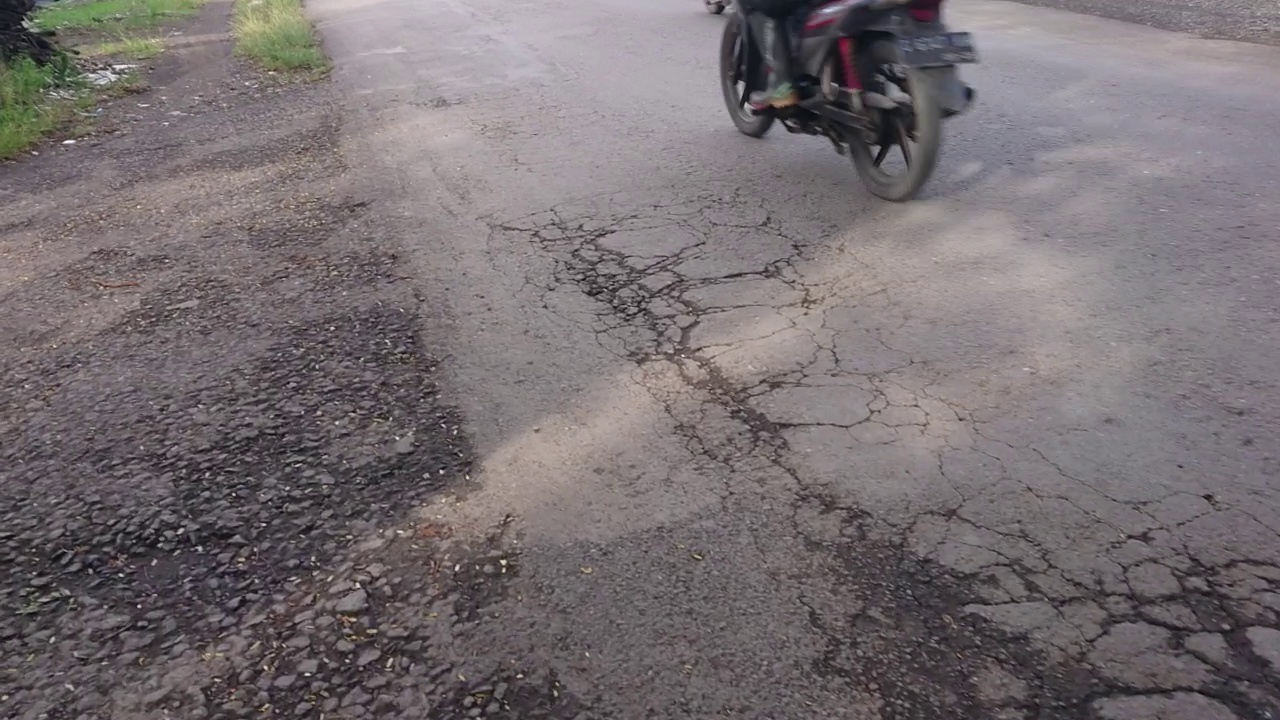Retak: (757, 519, 1269, 720), (576, 244, 816, 482)
